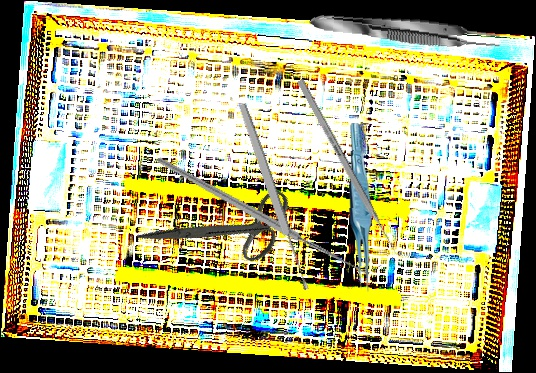Hook Surgical: (152, 87, 383, 340)
Iris Scissors: (136, 147, 307, 311)
Pusher: (296, 78, 400, 258)
Surgical Spoon: (236, 102, 312, 292)
Tissue Forceps: (307, 6, 503, 55), (346, 123, 374, 294)
